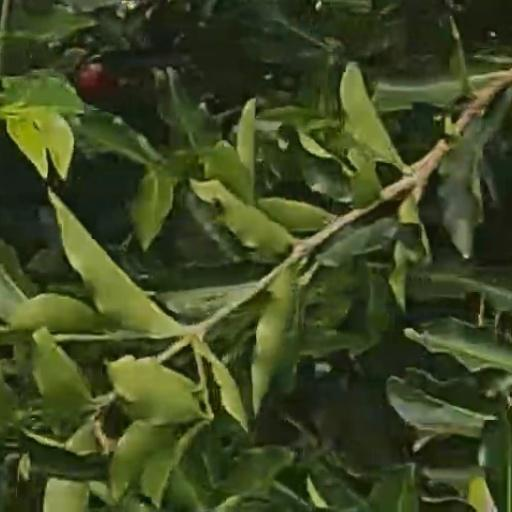acerola_vermelha: (78, 67, 115, 102)
